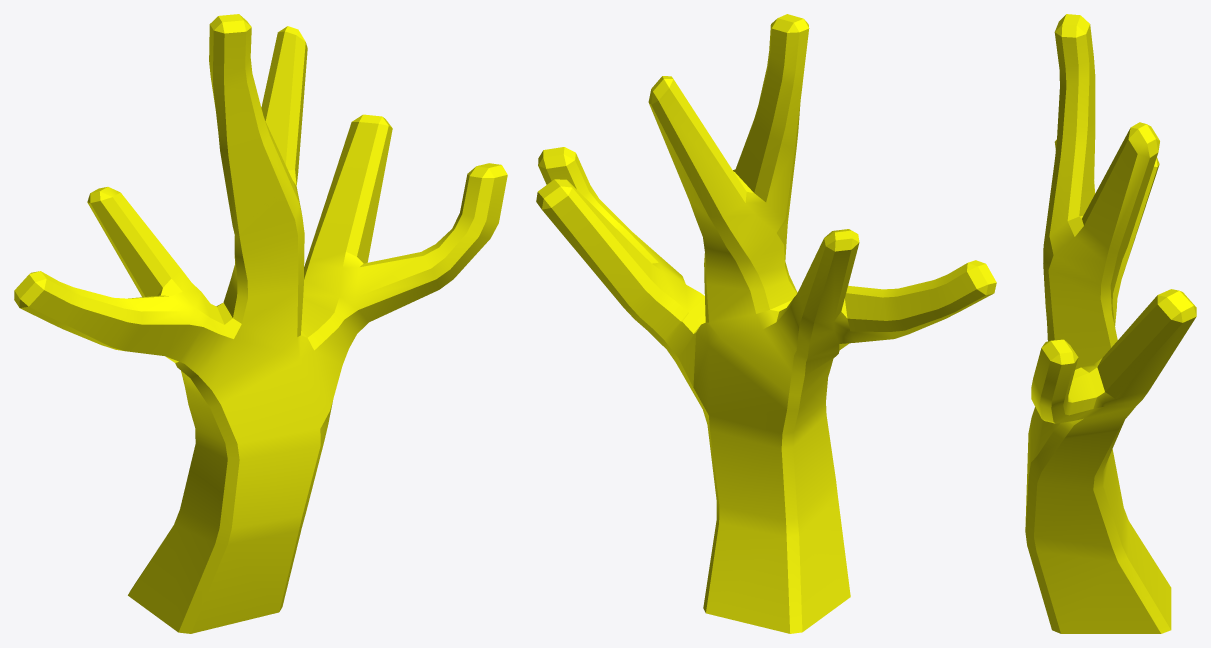
The model's file is DeadTree_1.glb.
3 views of the same model, side by side, from view 1: azimuth 30°, elevation 25°; view 2: azimuth 150°, elevation 25°; view 3: azimuth 270°, elevation 25° (orthographic). The views are drawn at different scales.
Parts seen in each view (by area): view 1: DeadTree_1; view 2: DeadTree_1; view 3: DeadTree_1.
Part boxes in pixels (x1,y1,x2,y2): DeadTree_1: (14,14,507,633); DeadTree_1: (536,14,996,633); DeadTree_1: (1025,14,1196,633).
Bounding box in the file's own units: 4.22 × 4.99 × 1.31.
1 material, 1 textured.
